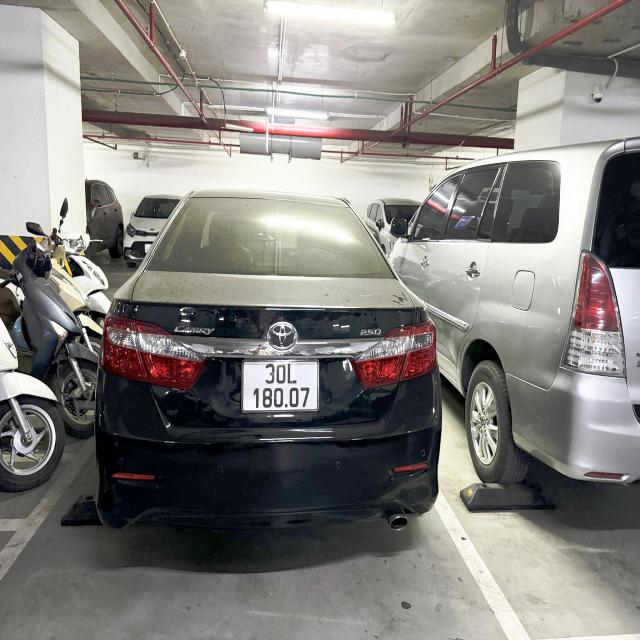license_plate: (242, 360, 320, 412)
